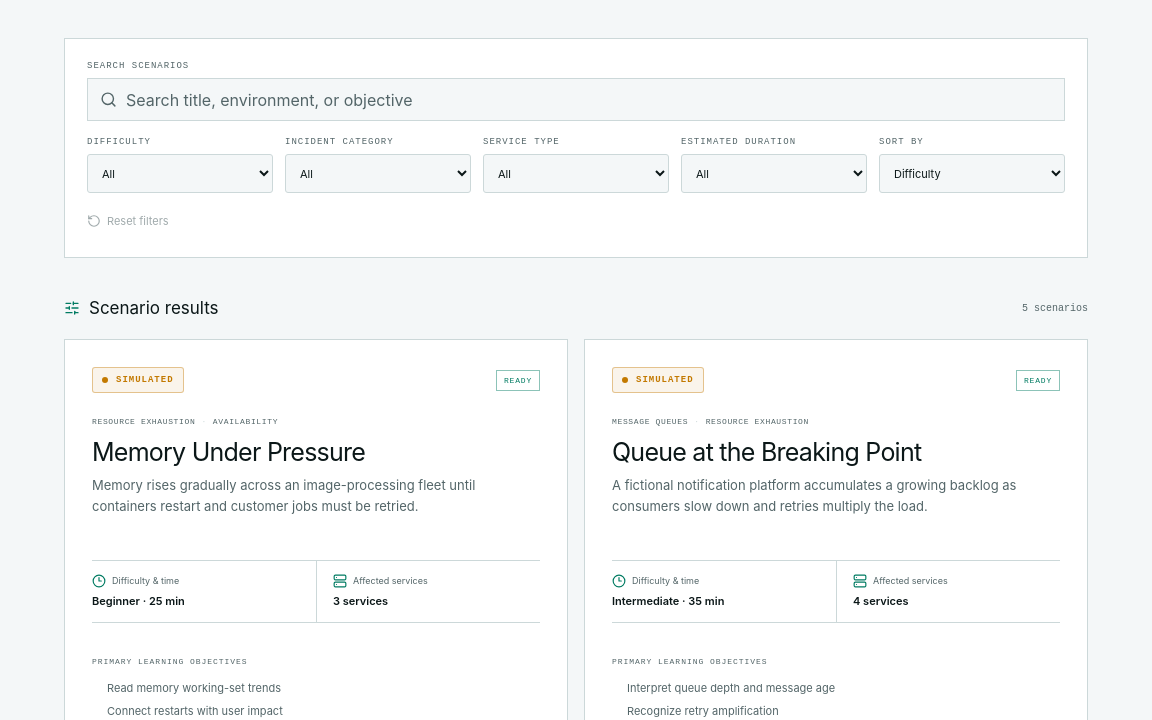
scenario catalog › resets filters and announces an empty result
The width and height of the screenshot is (1152, 720).
Type "not-a-scenario" into the search field labelled "Search scenarios" at point(589, 100), box [126, 88, 1052, 112]
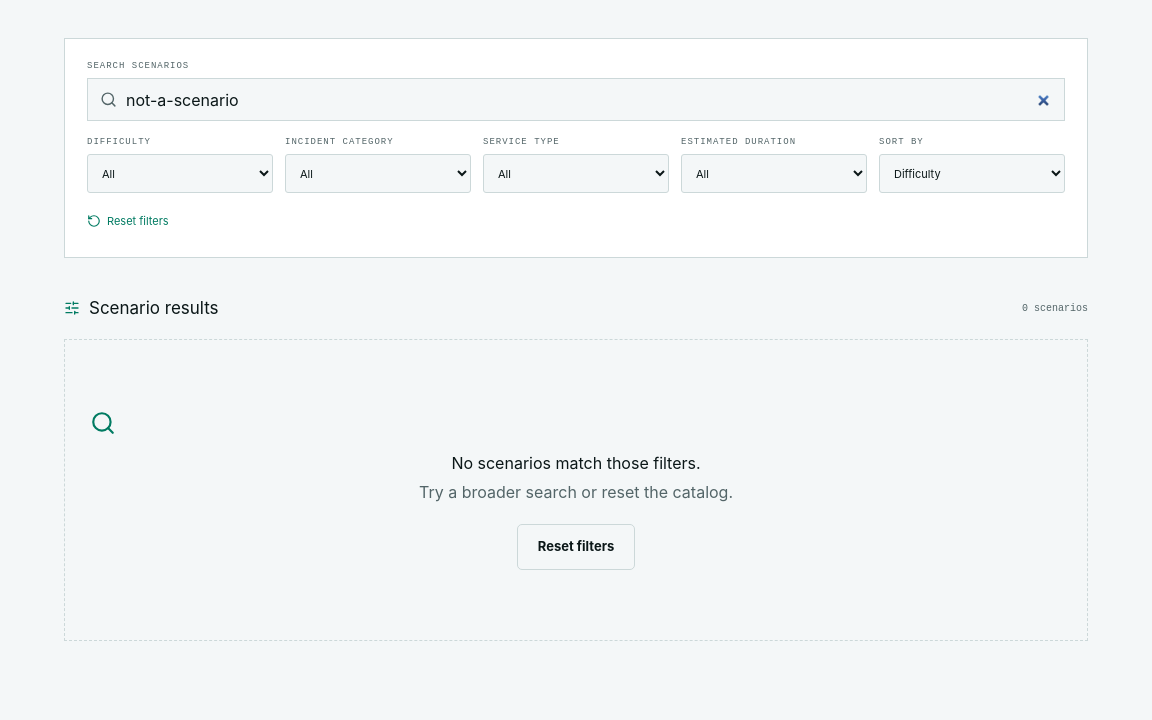
Now the heading "No scenarios match those filters." is shown, box [451, 453, 701, 473]
Click the button "Reset filters" below "No scenarios match those filters." at point(576, 547), box [517, 524, 635, 570]
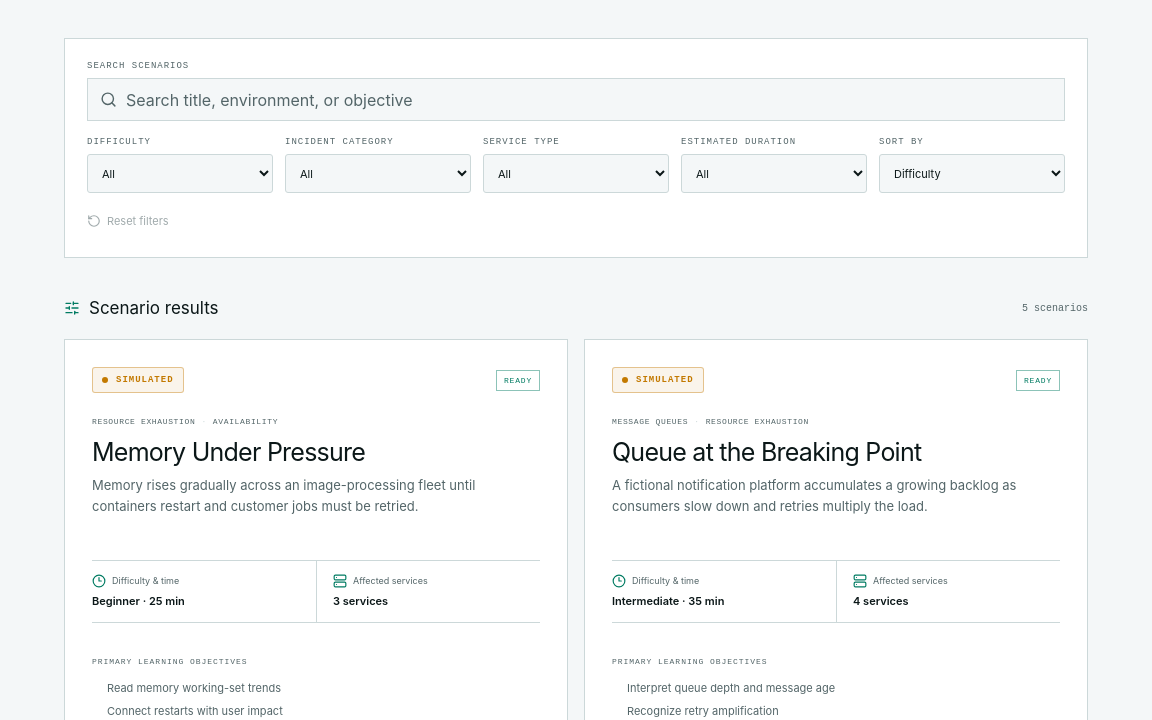
Now the text "5 scenarios" is shown, box [1022, 303, 1088, 314]
